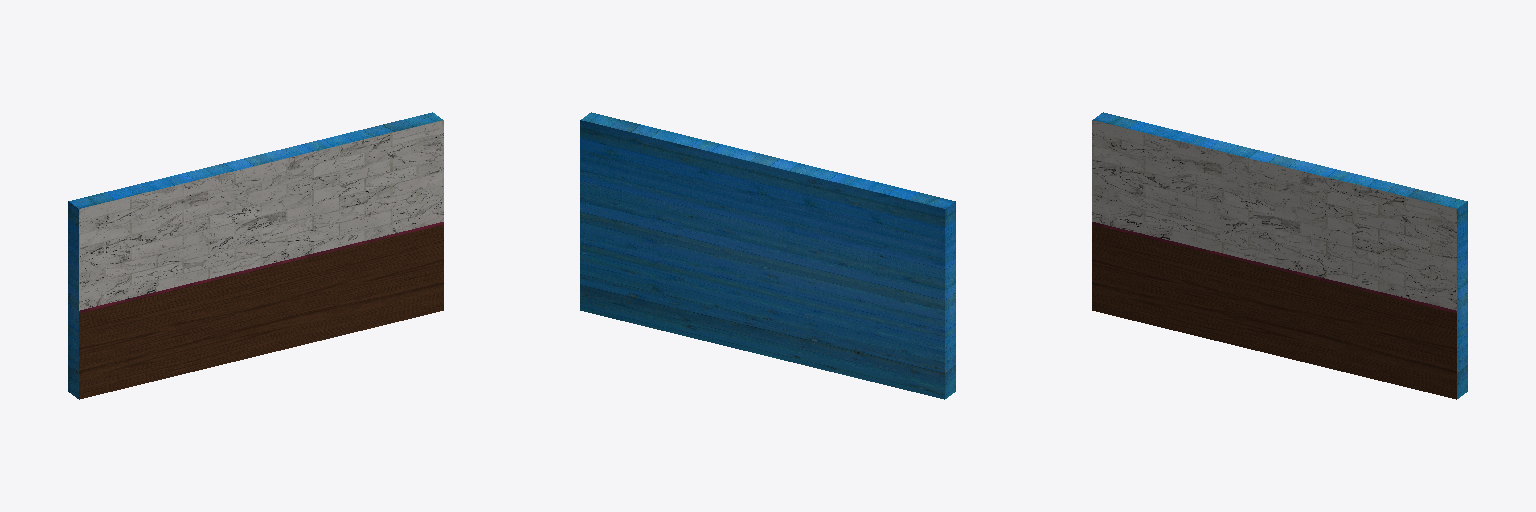
The picture shows the model from 3 angles: view 1: azimuth 30°, elevation 25°; view 2: azimuth 150°, elevation 25°; view 3: azimuth 330°, elevation 25°; orthographic projection.
Parts seen in each view (by area): view 1: Box001; view 2: Box001; view 3: Box001.
Boxes of the visible parts, <box> form: Box001: <box>68,112,443,399</box>; Box001: <box>580,112,955,399</box>; Box001: <box>1092,112,1467,399</box>.
Bounding box in the file's own units: 500 × 250 × 25.
2 materials, 2 textured.